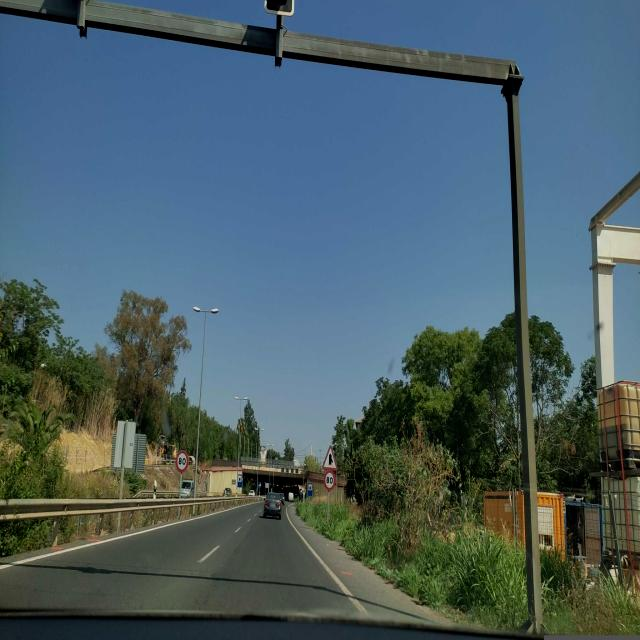car: (263, 491, 282, 519)
